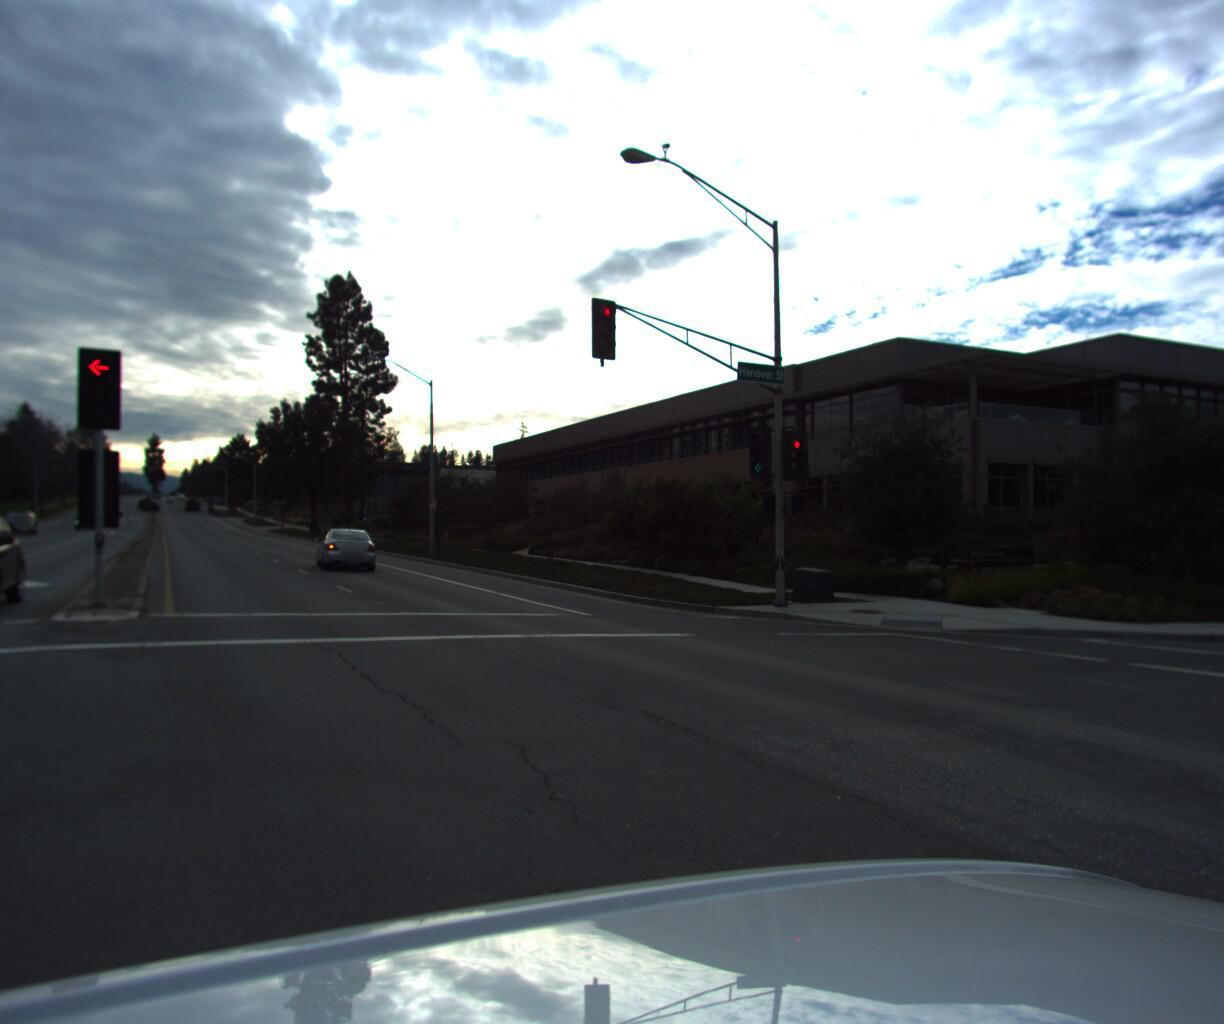car: (0, 505, 33, 631), (312, 523, 379, 569), (14, 511, 47, 535)
